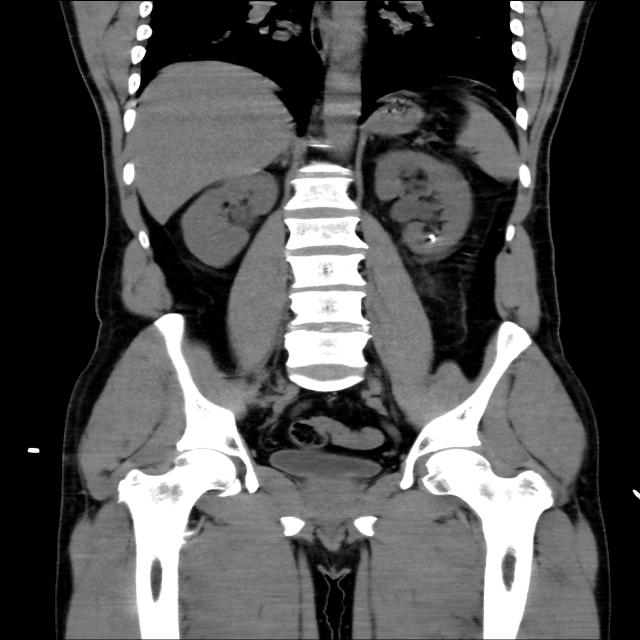kidneystone: (429, 234, 438, 244)
